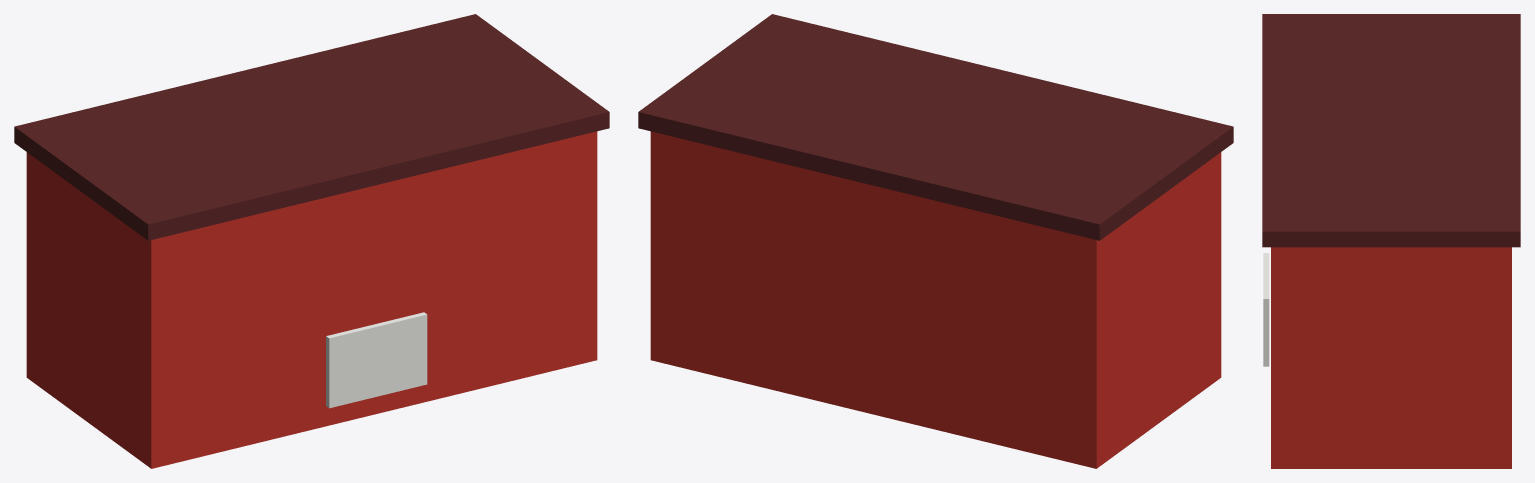
Rendered from fire_station.dae.
3 views of the same model, side by side, from view 1: azimuth 30°, elevation 25°; view 2: azimuth 150°, elevation 25°; view 3: azimuth 270°, elevation 25° (orthographic). The views are drawn at different scales.
Parts seen in each view (by area): view 1: main, roof, entrance; view 2: main, roof; view 3: roof, main, entrance.
Boxes of the visible parts, x1=… form: main: x1=26, y1=131, x2=597, y2=468; roof: x1=14, y1=14, x2=609, y2=240; entrance: x1=326, y1=312, x2=427, y2=408; main: x1=650, y1=131, x2=1221, y2=468; roof: x1=638, y1=14, x2=1233, y2=240; roof: x1=1262, y1=14, x2=1520, y2=247; main: x1=1271, y1=247, x2=1511, y2=468; entrance: x1=1263, y1=253, x2=1269, y2=366.
Size of the model in its own units: 20.7 by 10.4 by 10.7.
